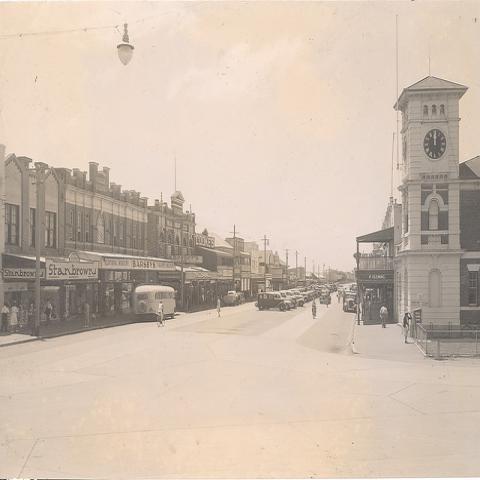bus: (133, 285, 176, 320)
car: (257, 293, 295, 311), (279, 291, 305, 307), (344, 293, 358, 313), (290, 289, 309, 303), (320, 290, 331, 303), (306, 291, 318, 299), (238, 294, 246, 304), (337, 287, 345, 297)
truck: (255, 292, 286, 311), (342, 292, 358, 314), (224, 291, 238, 304)
